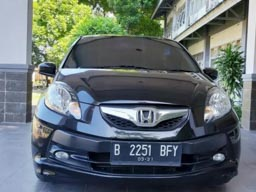plat: (109, 139, 181, 155)
